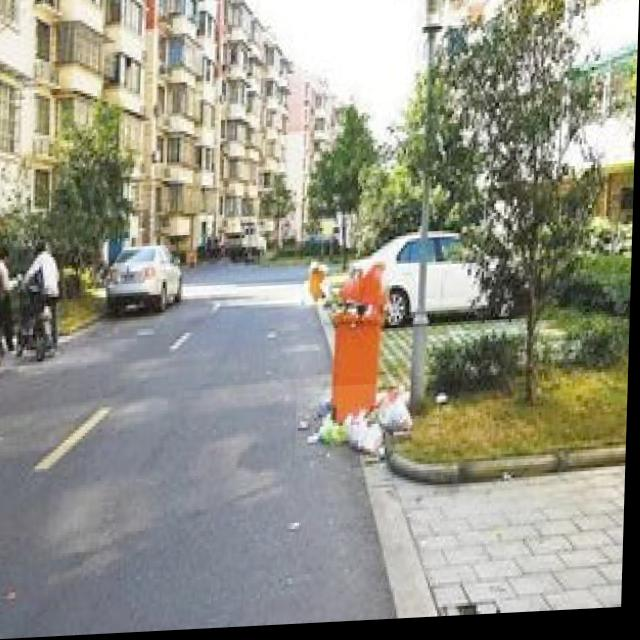garbage: (298, 387, 414, 459)
overflow: (326, 269, 382, 421)
